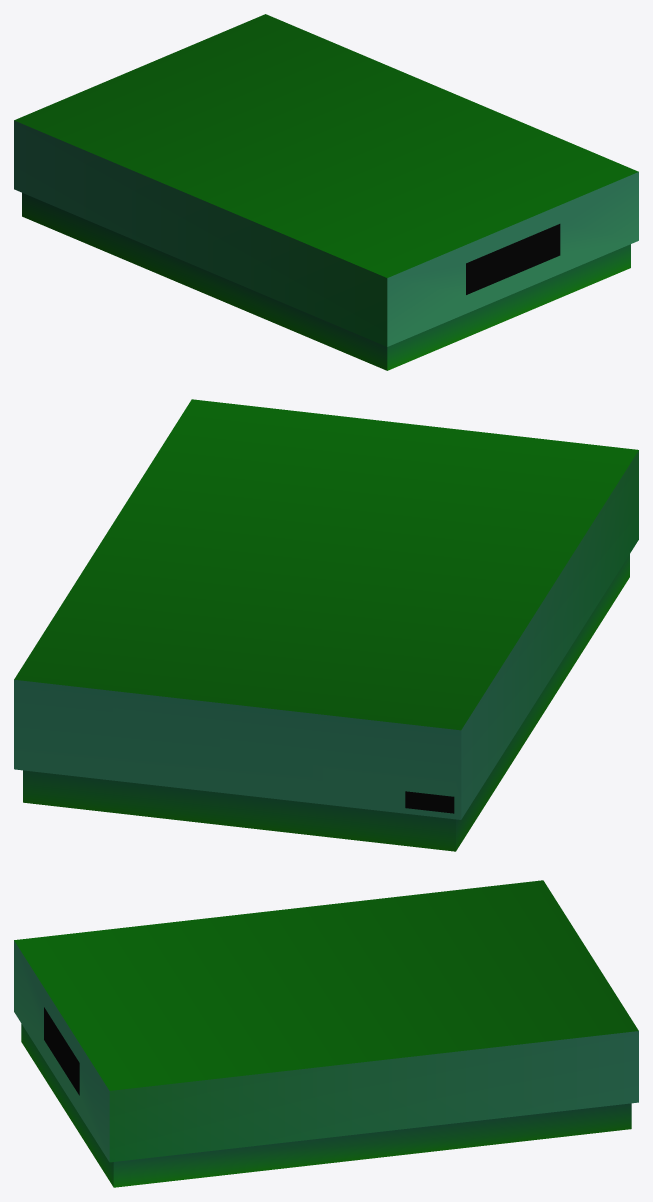
The picture shows the model from 3 angles, top to bottom: view 1: azimuth 30°, elevation 25°; view 2: azimuth 150°, elevation 25°; view 3: azimuth 270°, elevation 25°; orthographic projection. The views are drawn at different scales.
Parts seen in each view (by area): view 1: Joint_0_Object_0, Joint_0_Object_1; view 2: Joint_0_Object_0, Joint_0_Object_1; view 3: Joint_0_Object_0, Joint_0_Object_1.
Part boxes in pixels (x1,y1,x2,y2): Joint_0_Object_0: [14, 14, 638, 370]; Joint_0_Object_1: [466, 224, 560, 294]; Joint_0_Object_0: [14, 399, 638, 851]; Joint_0_Object_1: [405, 791, 454, 813]; Joint_0_Object_0: [14, 880, 638, 1187]; Joint_0_Object_1: [44, 1007, 79, 1095].
Bounding box in the file's own units: 837 × 185 × 1049.
Materials: 2 (1 with a texture image).
